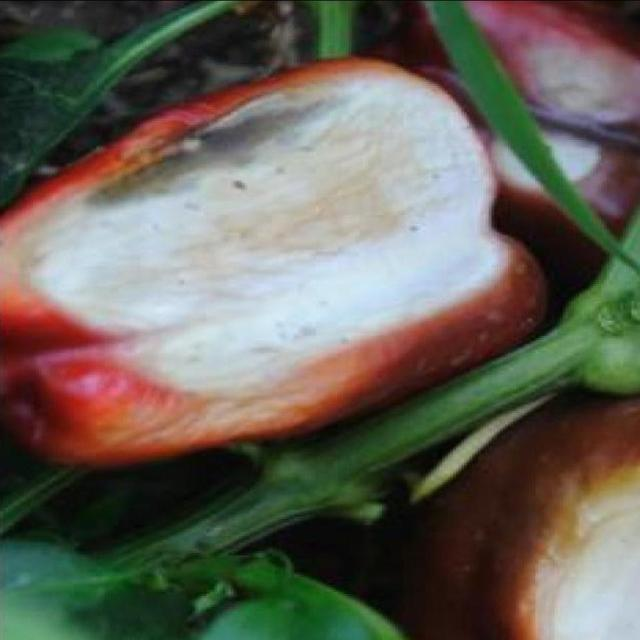Sunscald Fruit: (77, 76, 388, 358)
